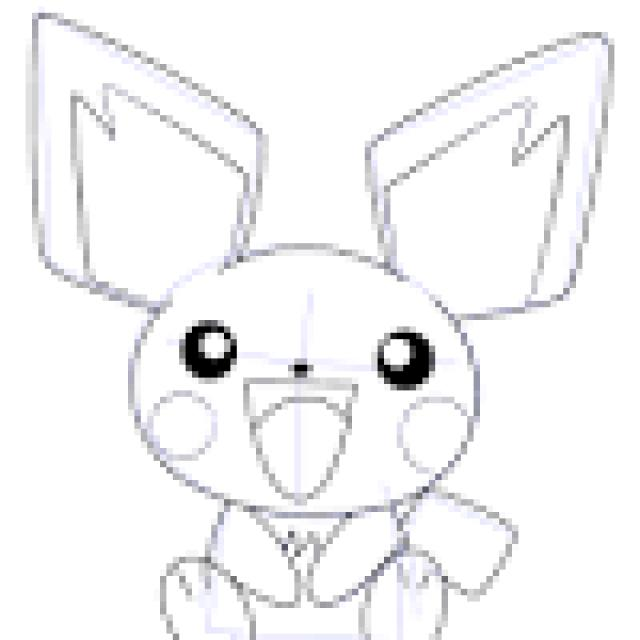pichu: (16, 9, 635, 636)
